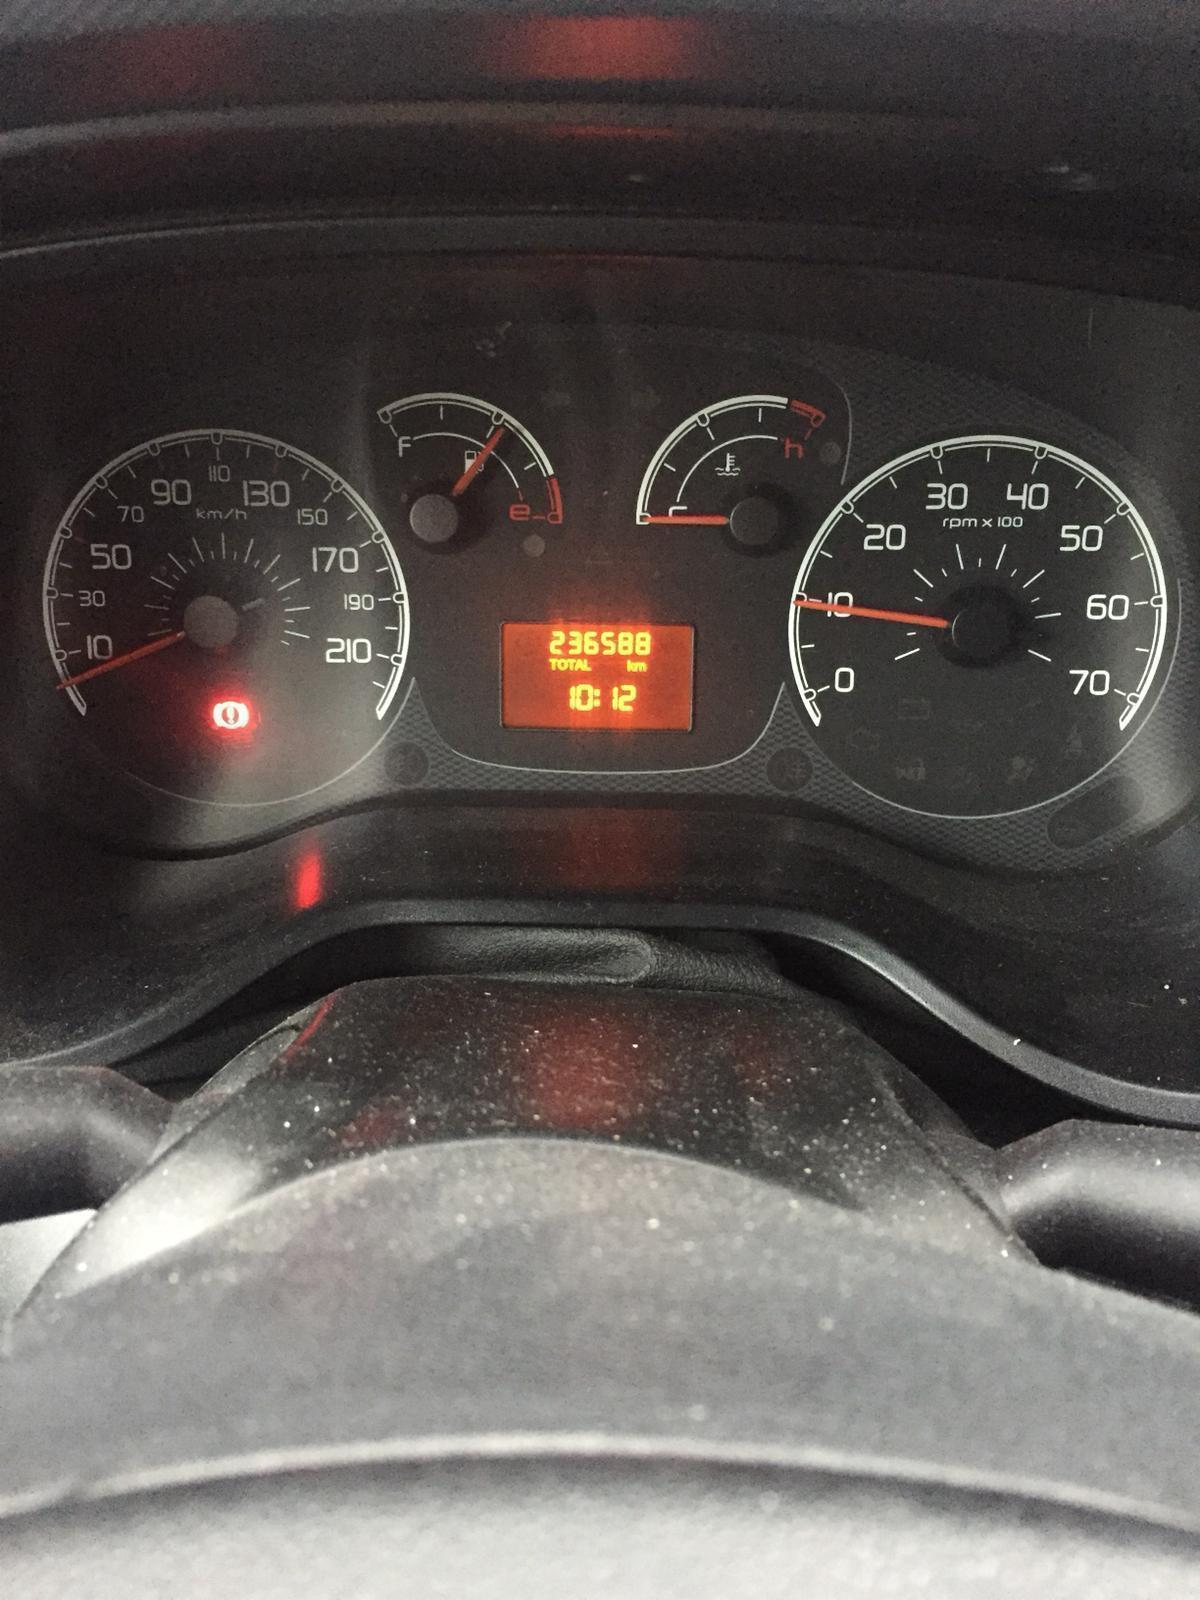0: (575, 682, 592, 712)
1: (567, 684, 575, 712), (610, 684, 618, 712)
2: (619, 683, 637, 712), (548, 627, 566, 655)
3: (568, 629, 584, 655)
5: (601, 630, 616, 655)
6: (584, 629, 599, 655)
8: (616, 630, 633, 656), (635, 631, 650, 654)
X: (594, 687, 603, 709), (633, 661, 648, 673), (548, 656, 558, 671), (557, 656, 567, 671), (567, 656, 576, 671), (584, 658, 592, 671), (576, 658, 584, 671), (626, 659, 634, 673)
odometer: (497, 615, 697, 733)
